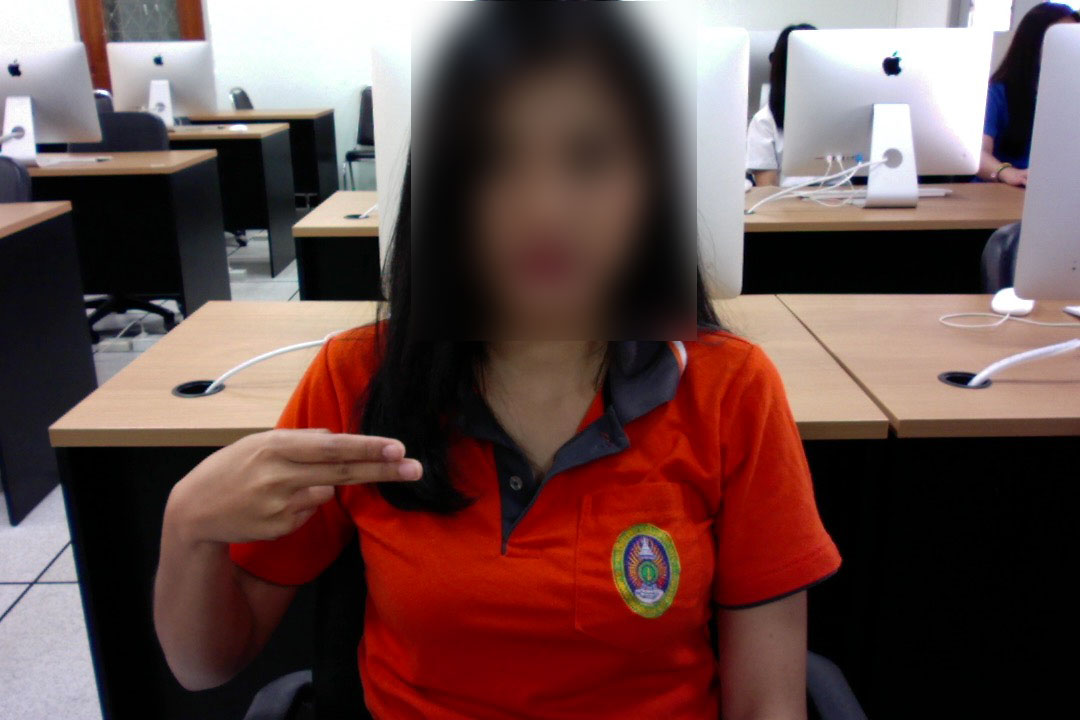hor: (162, 419, 440, 544)
